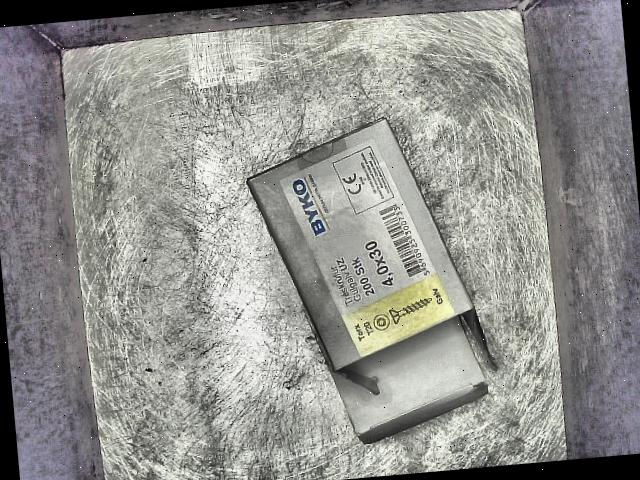Paper: (214, 94, 526, 462)
